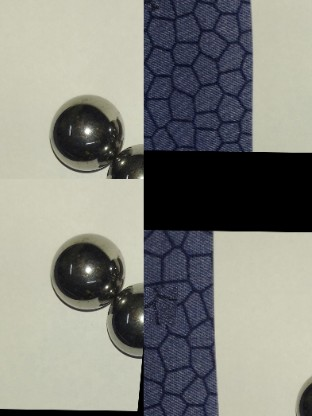ironball: (46, 83, 124, 172), (51, 230, 118, 310), (105, 277, 147, 357), (107, 145, 145, 182)
